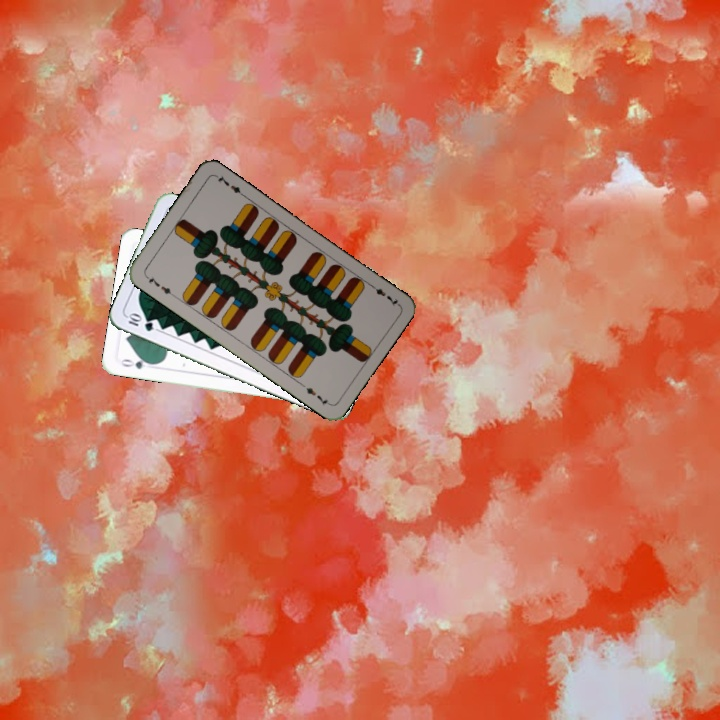E7: (366, 280, 401, 309), (141, 271, 177, 299)
G10: (123, 310, 156, 334)
GO: (117, 354, 157, 372)
